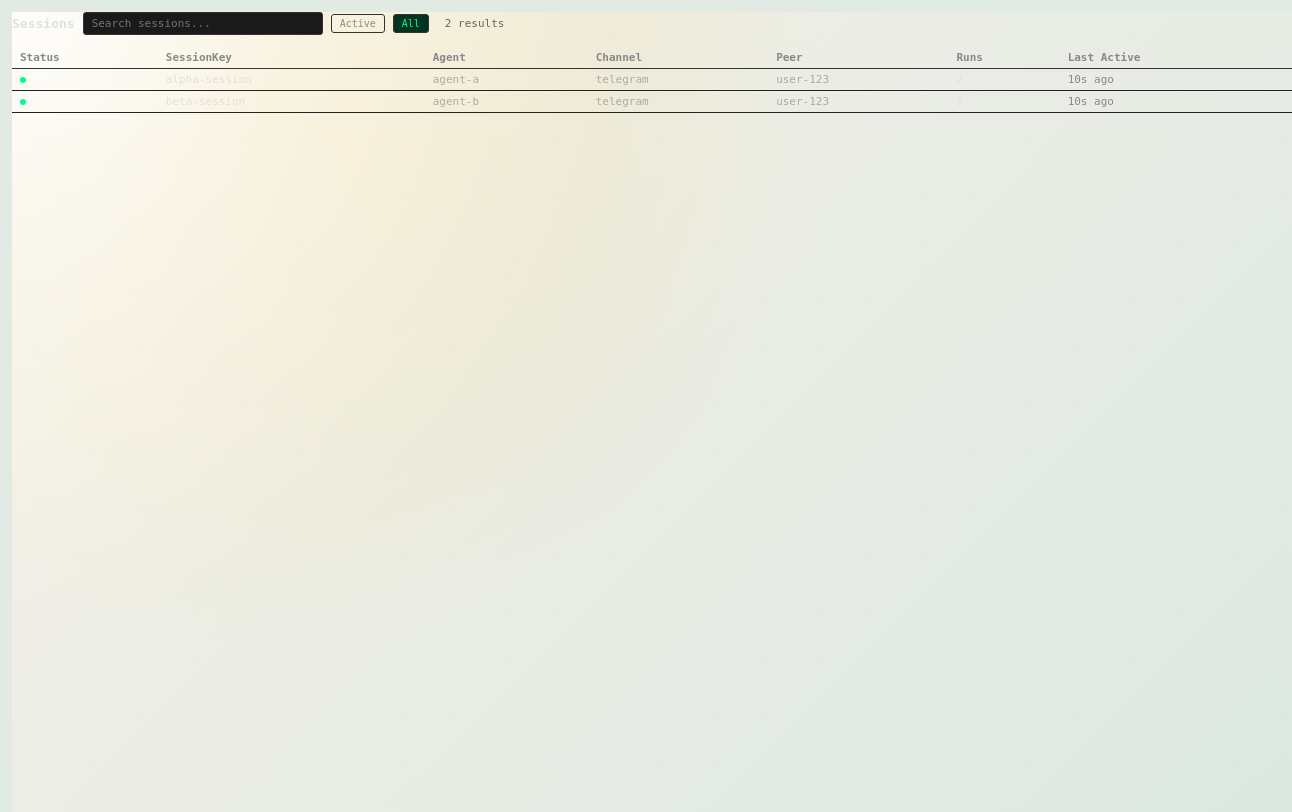
Scenario: SessionsExplorer › search filter narrows results
Type "alpha" into the field with test id "session-search" at point(203, 24), box [83, 12, 323, 35]
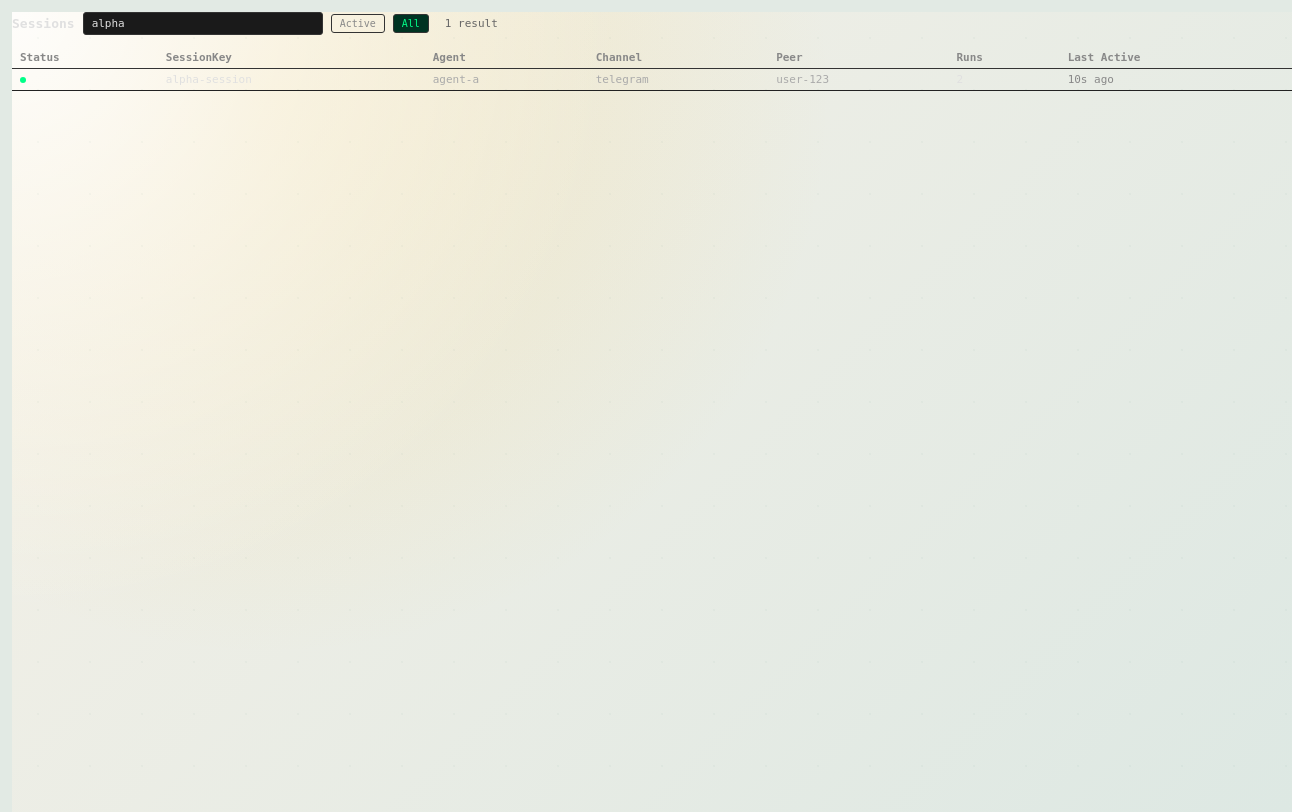
Check: the text "1 result" is shown, box [445, 17, 498, 30]
